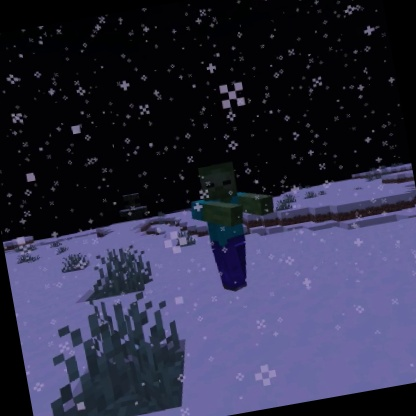zombie: (180, 151, 292, 299)
